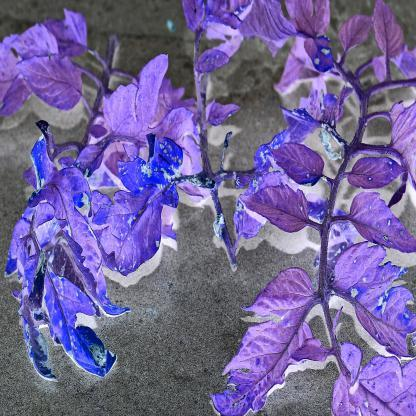Tomato Septoria leaf spot: (208, 274, 320, 416), (101, 142, 192, 272), (34, 248, 118, 376), (330, 245, 416, 356)
